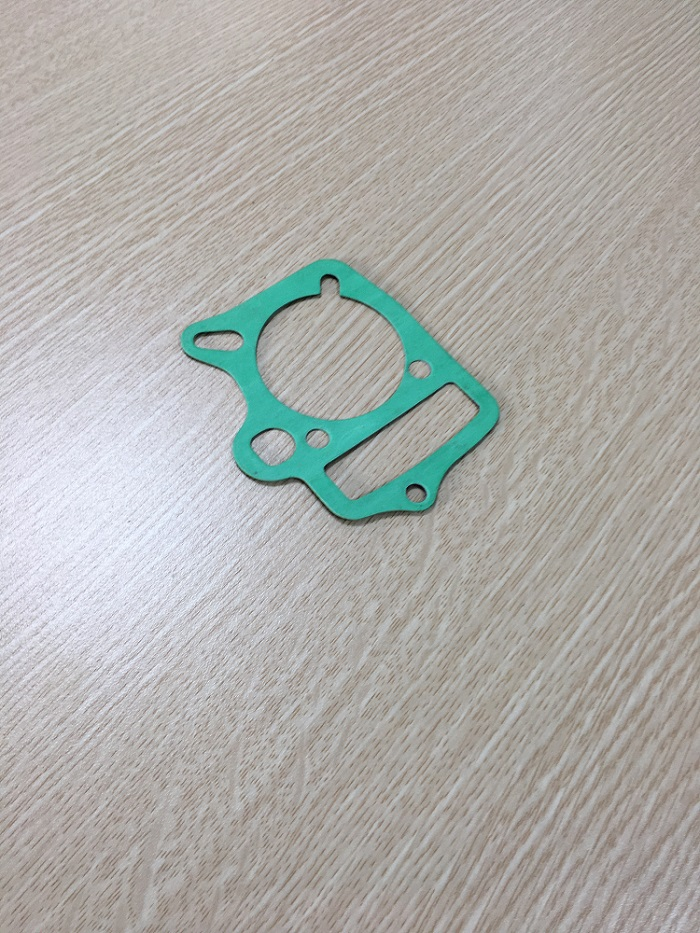circle 1: (239, 253, 413, 427)
circle 2: (236, 419, 304, 483)
circle 3: (182, 312, 257, 362)
circle 4: (394, 344, 444, 394)
circle 5: (390, 467, 442, 519)
circle 6: (310, 373, 499, 509)
object: (140, 214, 526, 567)
